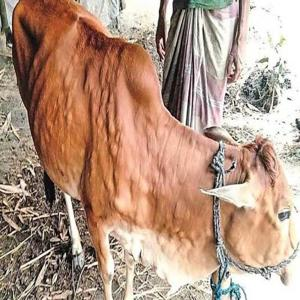lumpy skin diesease: (10, 0, 299, 299)
